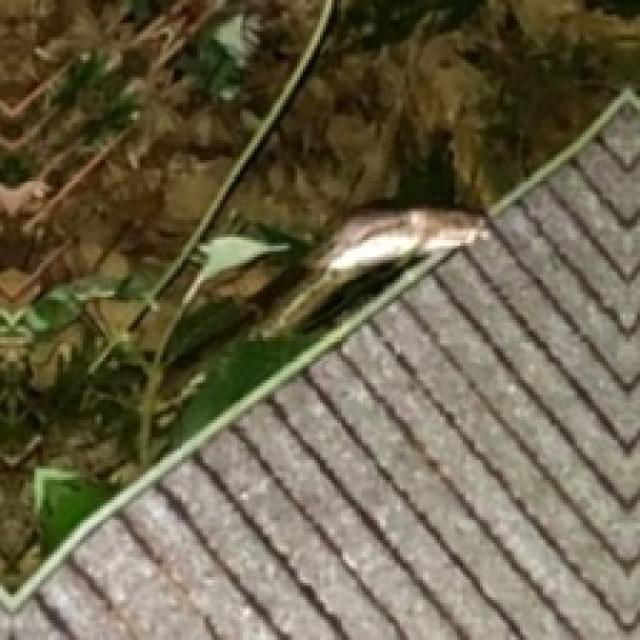reticulated python: (257, 209, 483, 334)
